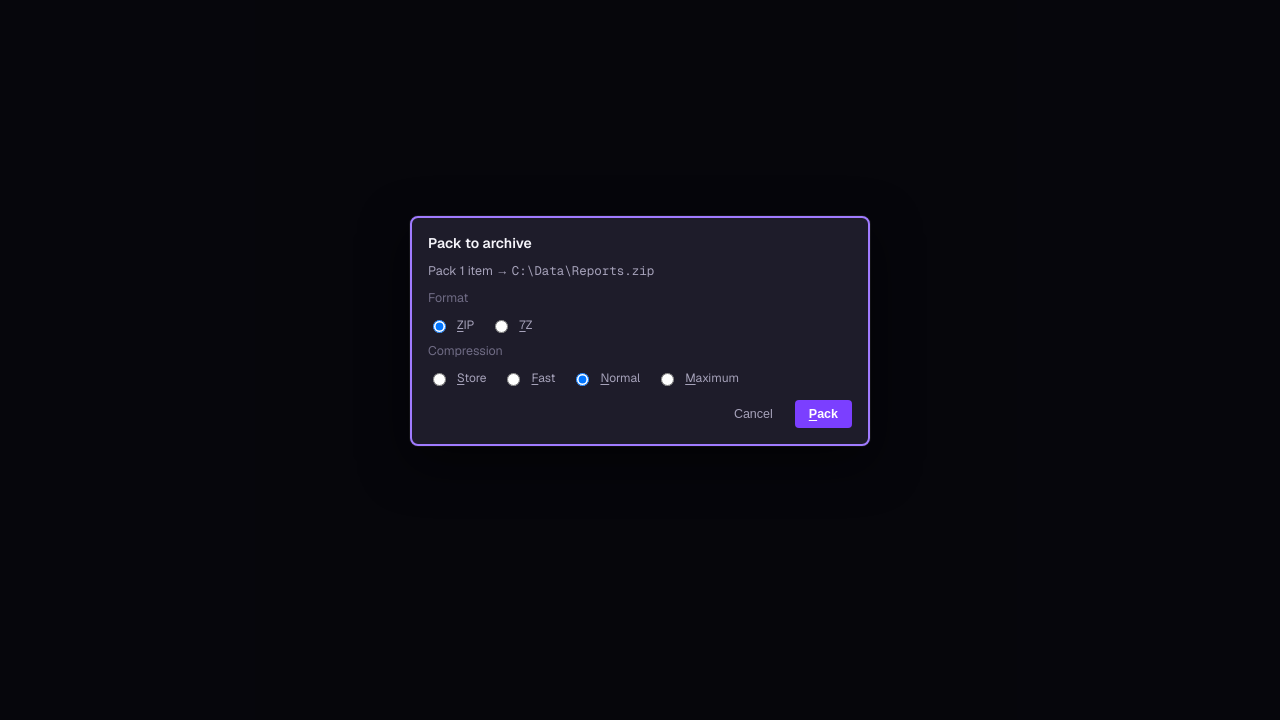
Test: FER-579: Ultra (text) 7z level › is offered for 7z only
Click the radio button named "packFormat": click(502, 326) x1=495 y1=320 x2=508 y2=333
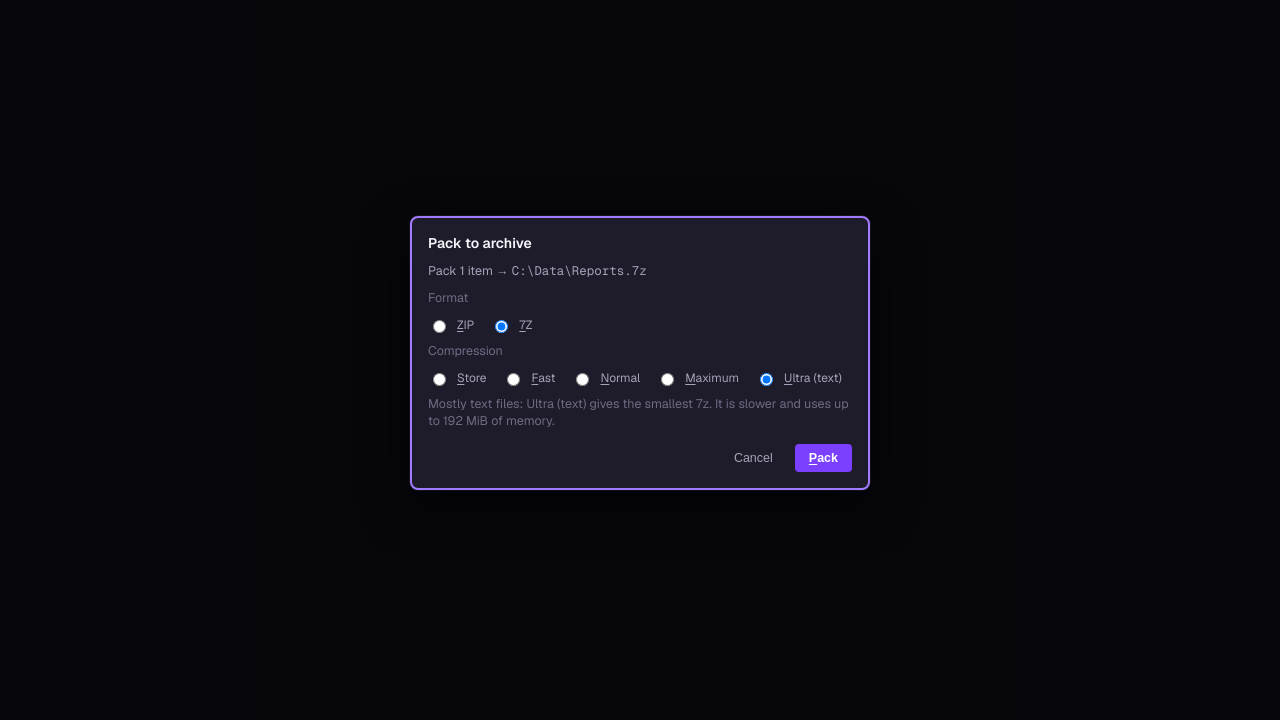
Result: the radio button named "packLevel" is shown at x1=760 y1=373 x2=773 y2=386
Result: the number of radio buttons named "packLevel" is 5 at x1=433 y1=373 x2=446 y2=386; x1=508 y1=373 x2=520 y2=386; x1=576 y1=373 x2=590 y2=386; x1=661 y1=373 x2=674 y2=386; x1=760 y1=373 x2=773 y2=386
Result: the text with test id "pack-ultra-text-hint" is shown at x1=428 y1=396 x2=852 y2=430
